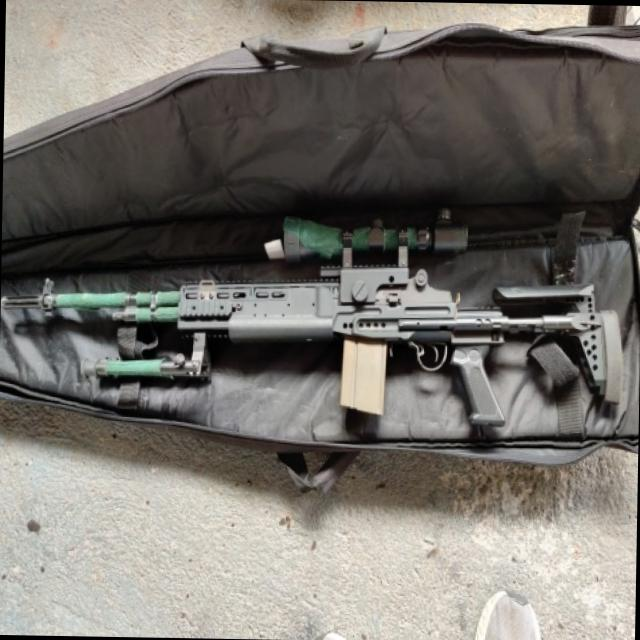Gun: (0, 222, 640, 483)
